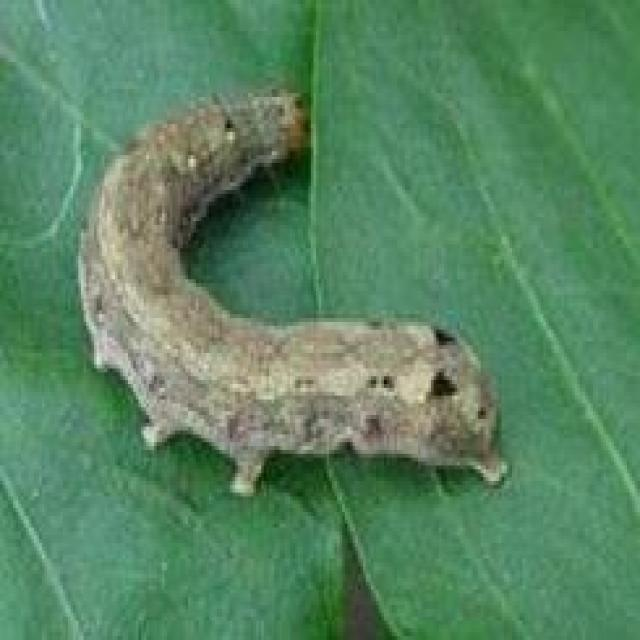BeetArmyWorm-Larva-: (59, 84, 512, 514)
